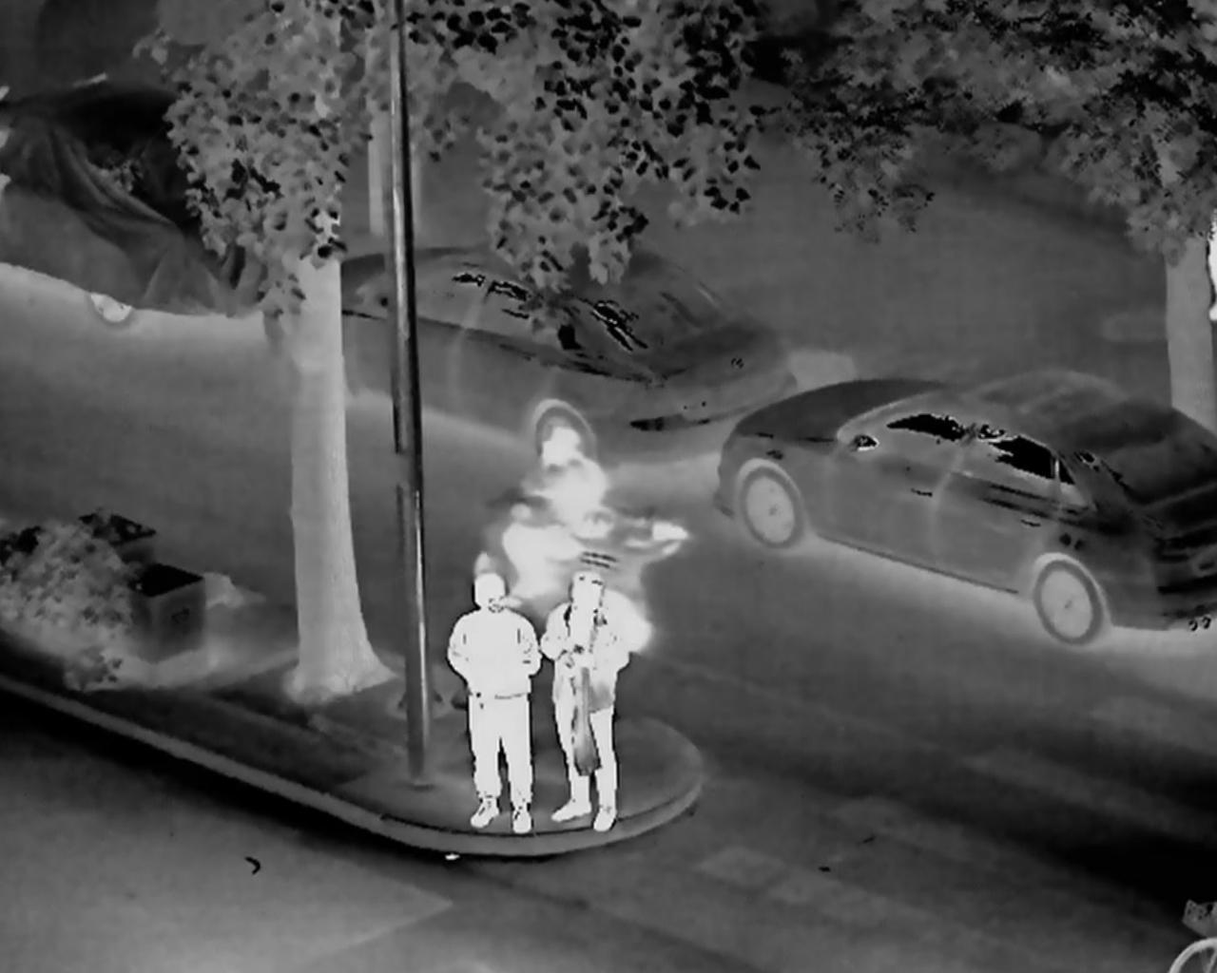person: (451, 563, 553, 858), (542, 571, 643, 847), (509, 426, 612, 633)
